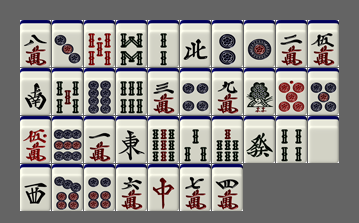0m: (20, 116, 51, 163)
0p: (276, 68, 307, 115)
0s: (84, 20, 115, 67)
1m: (84, 116, 115, 163)
1p: (244, 20, 275, 67)
1s: (244, 68, 275, 115)
1z: (116, 116, 147, 163)
2m: (276, 20, 307, 67)
2p: (212, 20, 243, 67)
2s: (148, 20, 179, 67)
2z: (20, 68, 51, 115)
3m: (148, 68, 179, 115)
3p: (52, 20, 83, 67)
3s: (180, 116, 211, 163)
3z: (20, 164, 51, 211)
4m: (212, 164, 243, 211)
4p: (180, 68, 211, 115)
4s: (276, 116, 307, 163)
4z: (180, 20, 211, 67)
5m: (308, 20, 339, 67)
5p: (308, 68, 339, 115)
5s: (52, 68, 83, 115)
5z: (308, 116, 339, 163)
6m: (116, 164, 147, 211)
6p: (84, 164, 115, 211)
6s: (116, 68, 147, 115)
6z: (244, 116, 275, 163)
7m: (180, 164, 211, 211)
7p: (52, 164, 83, 211)
7s: (212, 116, 243, 163)
7z: (148, 164, 179, 211)
8m: (20, 20, 51, 67)
8p: (84, 68, 115, 115)
8s: (116, 20, 147, 67)
9m: (212, 68, 243, 115)
9p: (52, 116, 83, 163)
9s: (148, 116, 179, 163)
